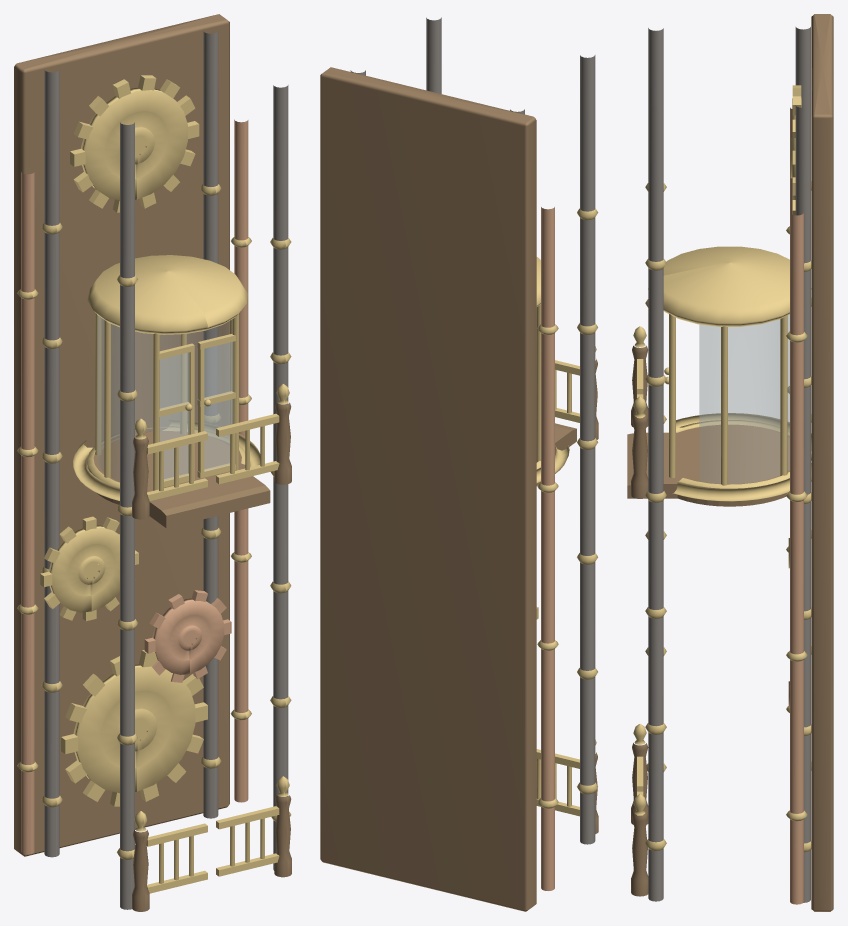
Rendered from elevator_tower.glb.
The picture shows the model from 3 angles, left to right: view 1: azimuth 30°, elevation 25°; view 2: azimuth 150°, elevation 25°; view 3: azimuth 270°, elevation 25°; orthographic projection.
Parts seen in each view (by area): view 1: Elevator_Tower_Static, Elevator_Cabin_Body, ShaftGear_1, ShaftGear_Top, ShaftGear_3, ShaftGear_2, CabinDoor_R, CabinDoor_L, LiftGate_f1R, LiftGate_f2R, LiftGate_f1L, LiftGate_f2L; view 2: Elevator_Tower_Static, Elevator_Cabin_Body, LiftGate_f1L, LiftGate_f2L; view 3: Elevator_Tower_Static, Elevator_Cabin_Body, ShaftGear_Top.
Boxes of the visible parts, x1=… form: Elevator_Tower_Static: x1=14, y1=14, x2=291, y2=911; Elevator_Cabin_Body: x1=87, y1=255, x2=270, y2=528; ShaftGear_1: x1=61, y1=650, x2=207, y2=806; ShaftGear_Top: x1=70, y1=75, x2=199, y2=212; ShaftGear_3: x1=40, y1=516, x2=138, y2=621; ShaftGear_2: x1=144, y1=590, x2=231, y2=682; CabinDoor_R: x1=197, y1=334, x2=235, y2=478; CabinDoor_L: x1=159, y1=343, x2=194, y2=487; LiftGate_f1R: x1=216, y1=806, x2=279, y2=876; LiftGate_f2R: x1=216, y1=413, x2=279, y2=484; LiftGate_f1L: x1=146, y1=823, x2=207, y2=893; LiftGate_f2L: x1=146, y1=431, x2=207, y2=500; Elevator_Tower_Static: x1=320, y1=17, x2=598, y2=911; Elevator_Cabin_Body: x1=536, y1=257, x2=576, y2=485; LiftGate_f1L: x1=536, y1=749, x2=579, y2=816; LiftGate_f2L: x1=555, y1=360, x2=579, y2=422; Elevator_Tower_Static: x1=631, y1=14, x2=833, y2=911; Elevator_Cabin_Body: x1=627, y1=246, x2=811, y2=506; ShaftGear_Top: x1=790, y1=85, x2=801, y2=215.
Bounding box in the file's own units: 1.7 × 5.5 × 1.29.
